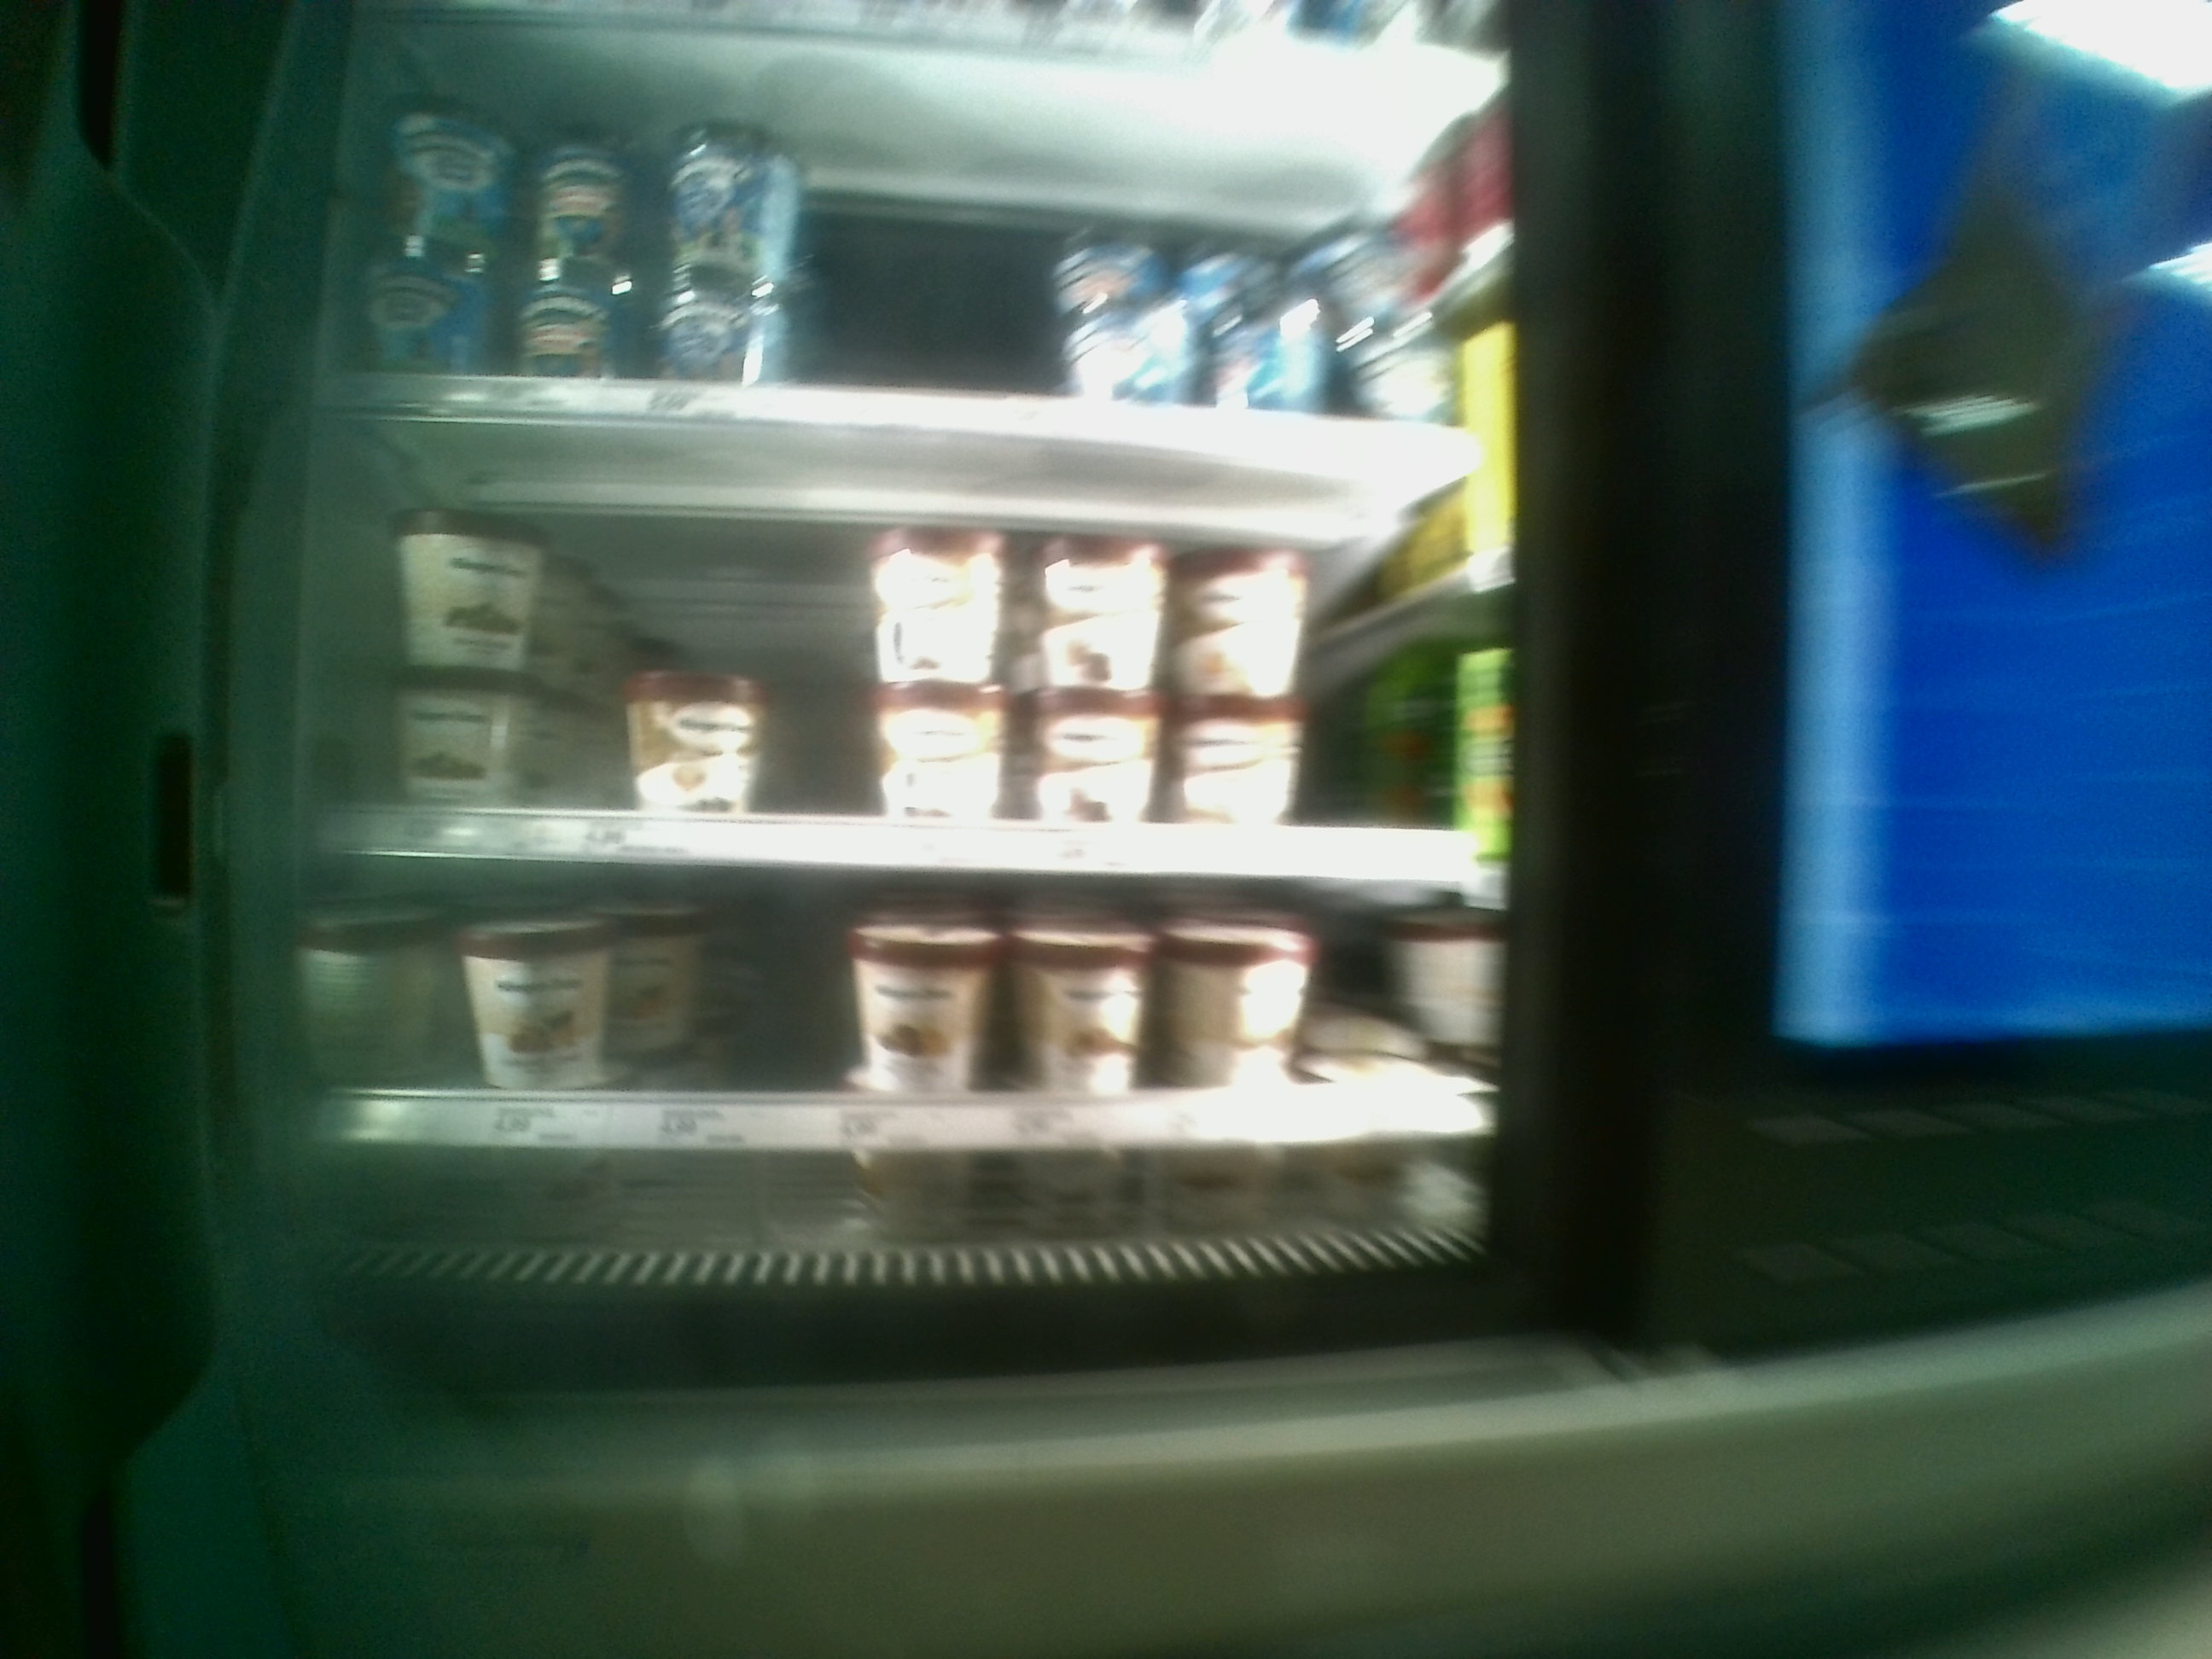shelf: (310, 410, 1519, 871), (314, 857, 1543, 1263)
